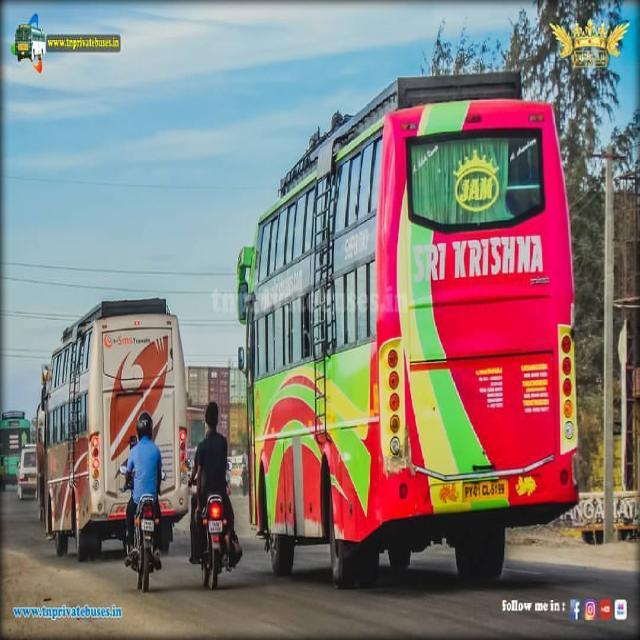Bus: (232, 69, 582, 592), (40, 297, 191, 560), (1, 408, 30, 492), (16, 445, 36, 503)
